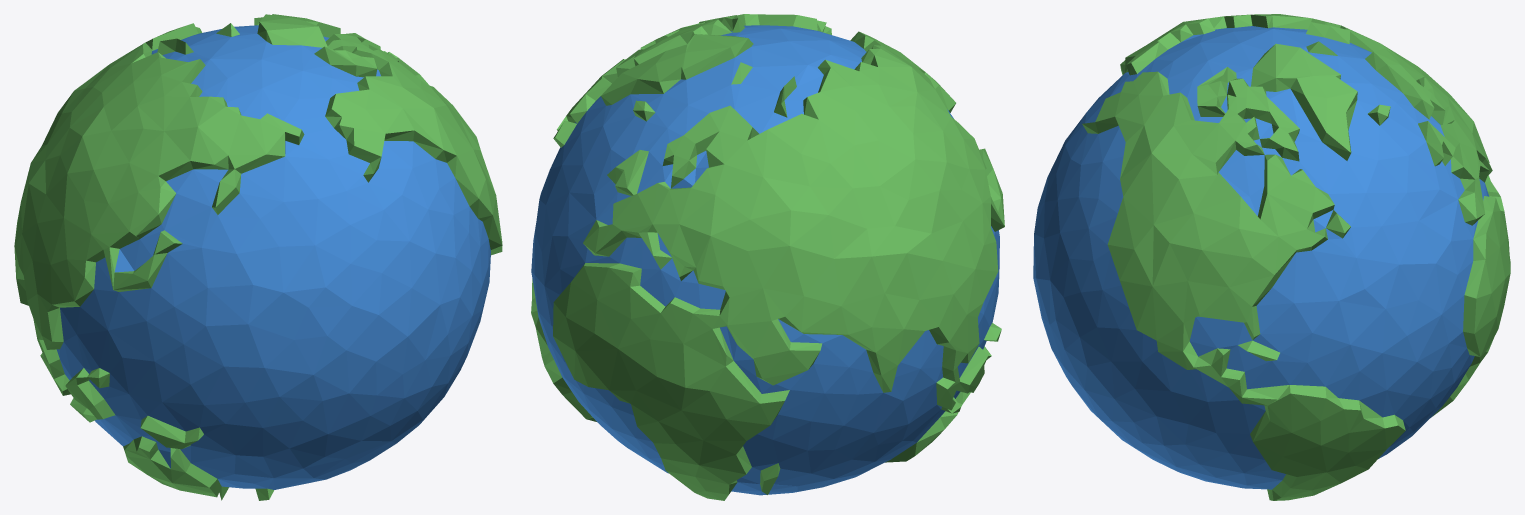
Rendered from Earth.obj.
3 renders of one model, left to right at view 1: azimuth 30°, elevation 25°; view 2: azimuth 150°, elevation 25°; view 3: azimuth 270°, elevation 25°, orthographic.
Visible parts, largest first — view 1: Earth; view 2: Earth; view 3: Earth.
Part boxes in pixels (x1,y1,x2,y2): Earth: (14, 14, 502, 500); Earth: (531, 14, 1004, 500); Earth: (1033, 14, 1510, 500).
Size of the model in its own units: 34.37 by 34.08 by 33.61.
1 material, 1 textured.
